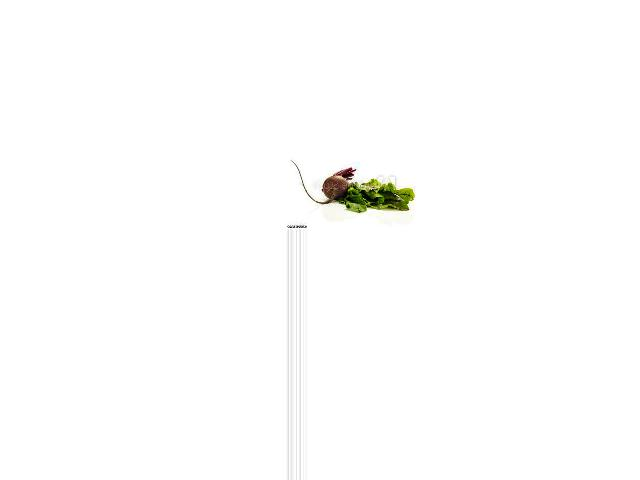beet: (289, 160, 356, 204)
